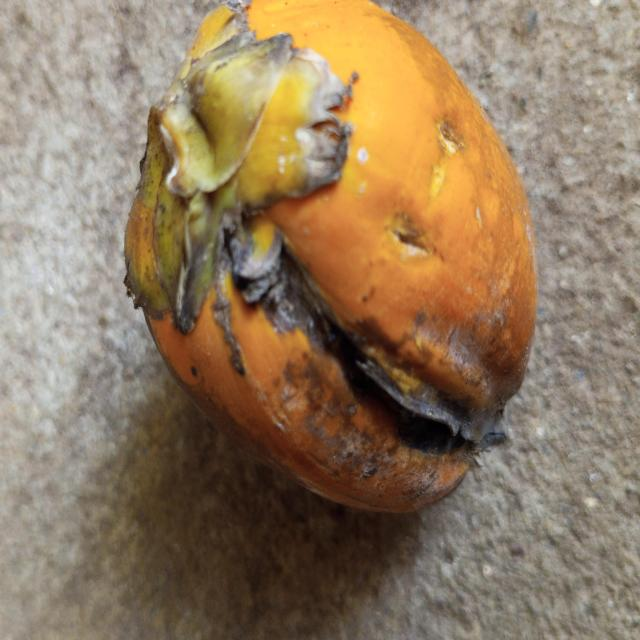damaged: (125, 0, 537, 511)
